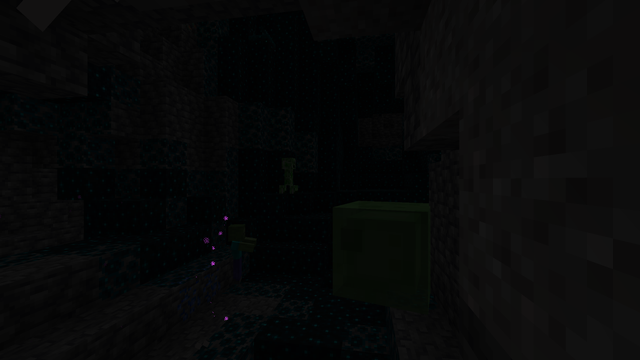creepers: (280, 156, 296, 193)
slimes: (339, 198, 436, 309)
zombies: (224, 225, 247, 285)
